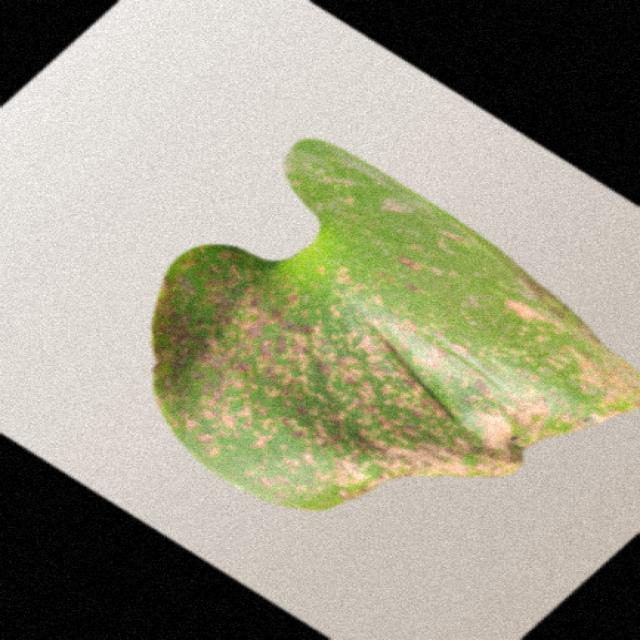daun berpenyakit bercak: (153, 139, 638, 509)
